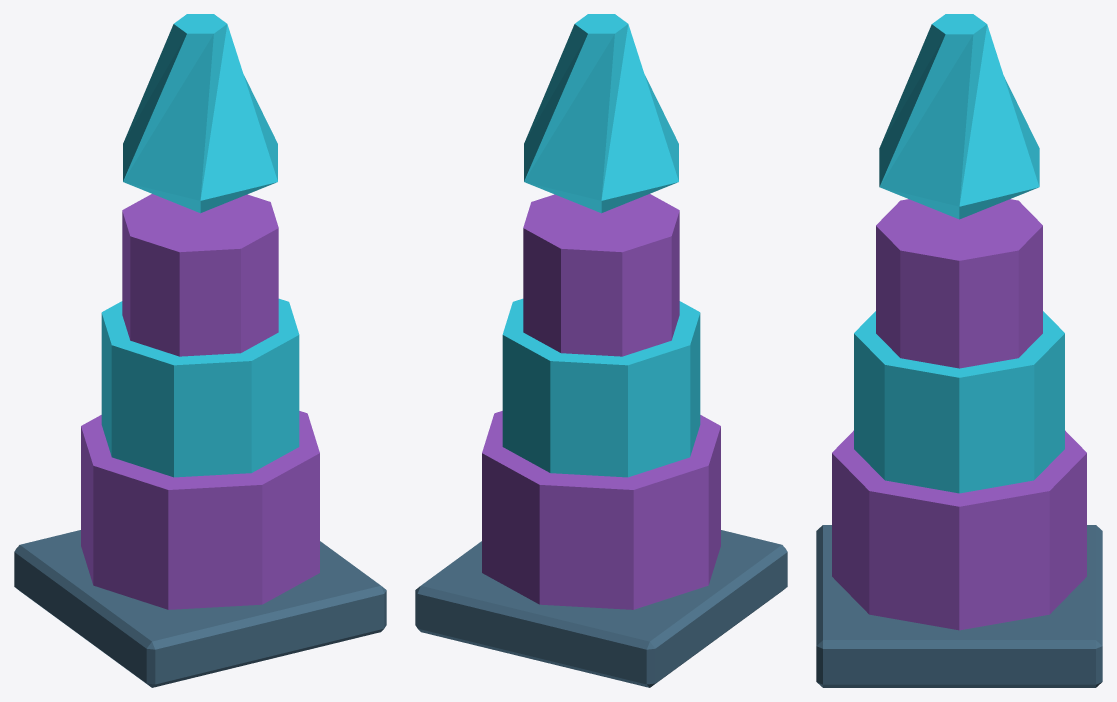
File: crystal_tower.glb
3 views of the same model, side by side, from view 1: azimuth 30°, elevation 25°; view 2: azimuth 150°, elevation 25°; view 3: azimuth 270°, elevation 25° (orthographic). The views are drawn at different scales.
Parts seen in each view (by area): view 1: crystal_tower; view 2: crystal_tower; view 3: crystal_tower.
Boxes of the visible parts, left/top/right/bottom form: crystal_tower: left=14, top=14, right=386, bottom=687; crystal_tower: left=415, top=14, right=787, bottom=687; crystal_tower: left=816, top=14, right=1102, bottom=687.
Size of the model in its own units: 1.3 by 3.04 by 1.3.
